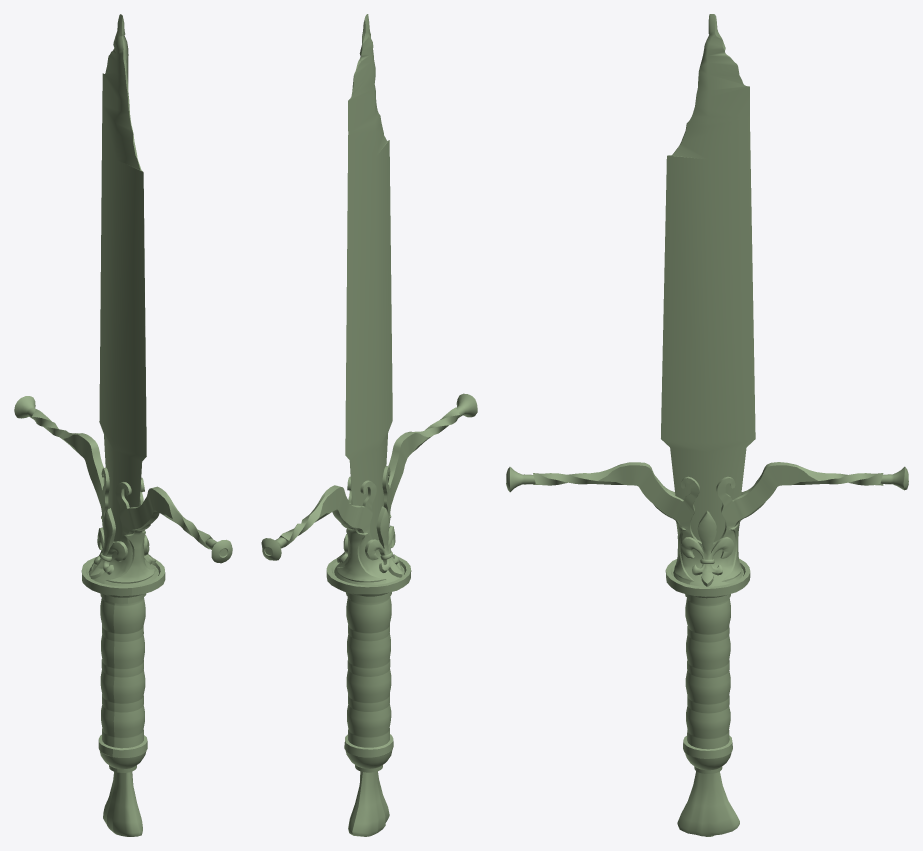
The model's file is SwordFINAL.fbx.
3 views of the same model, side by side, from view 1: azimuth 30°, elevation 25°; view 2: azimuth 150°, elevation 25°; view 3: azimuth 270°, elevation 25° (orthographic).
Visible parts, largest first — view 1: Hilt_low2; view 2: Hilt_low2; view 3: Hilt_low2.
Part boxes in pixels (x1,y1,x2,y2): Hilt_low2: [14, 14, 232, 836]; Hilt_low2: [261, 14, 477, 836]; Hilt_low2: [506, 14, 908, 836].
Bounding box in the file's own units: 55.88 × 602 × 268.
